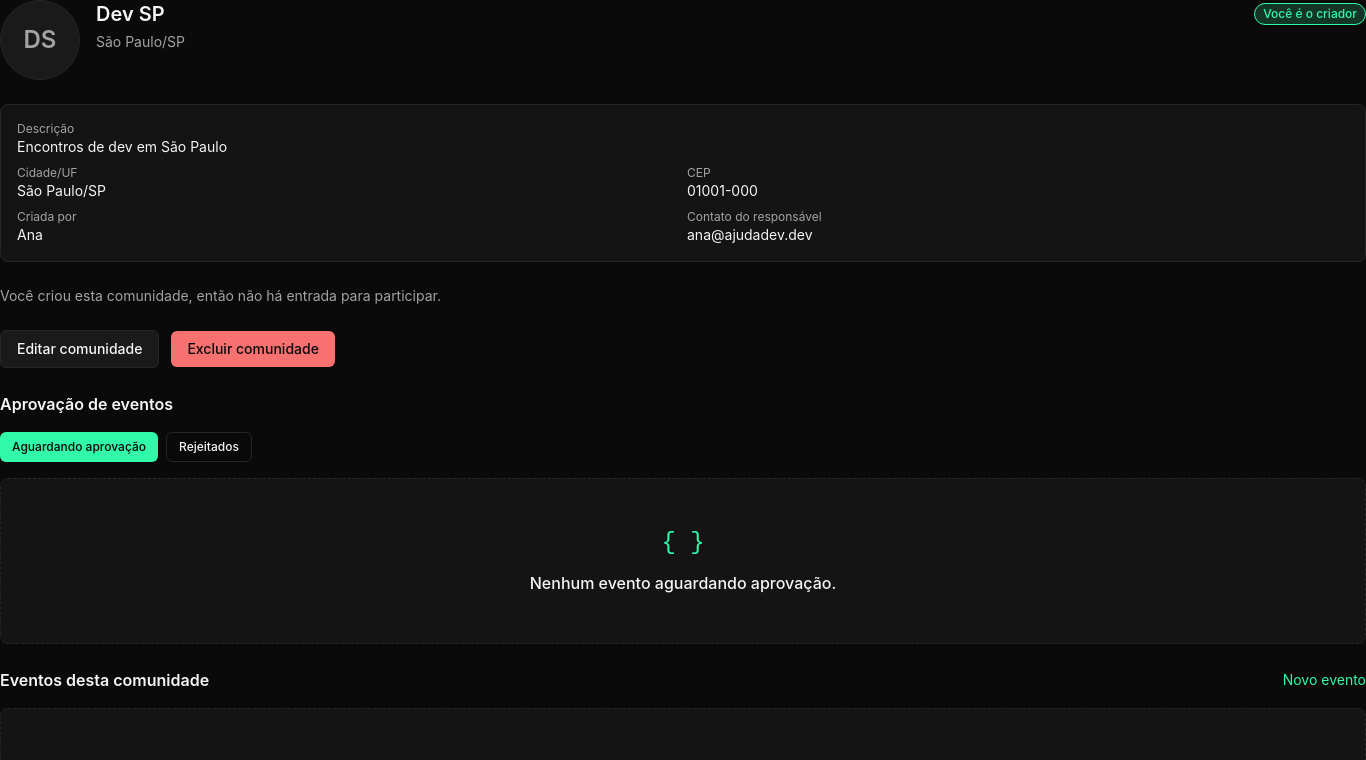
CommunityDetailPage › 403 alerta que só o responsável pode excluir a comunidade
Click the button "Excluir comunidade".
click(253, 349)  # box [171,331,335,367]
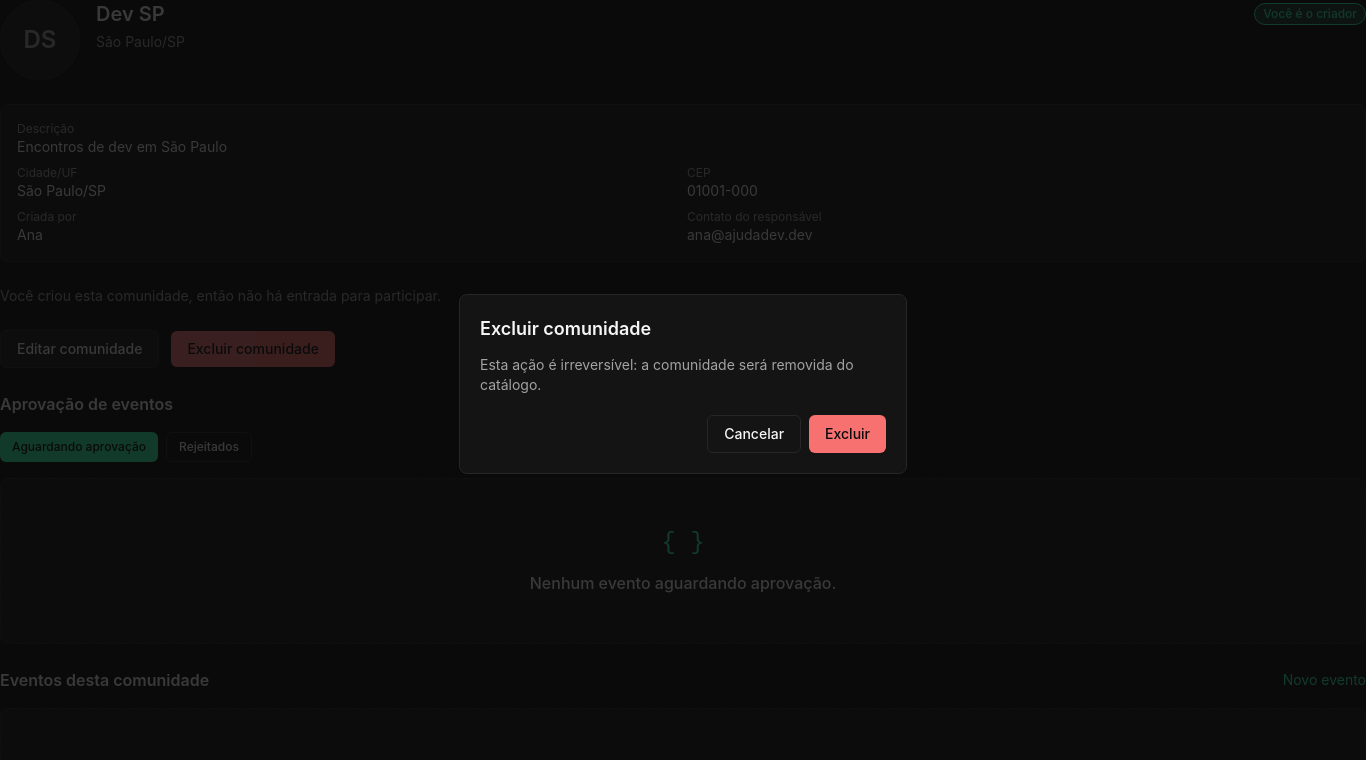
Click the button "Excluir".
click(848, 434)  # box [809,415,886,453]
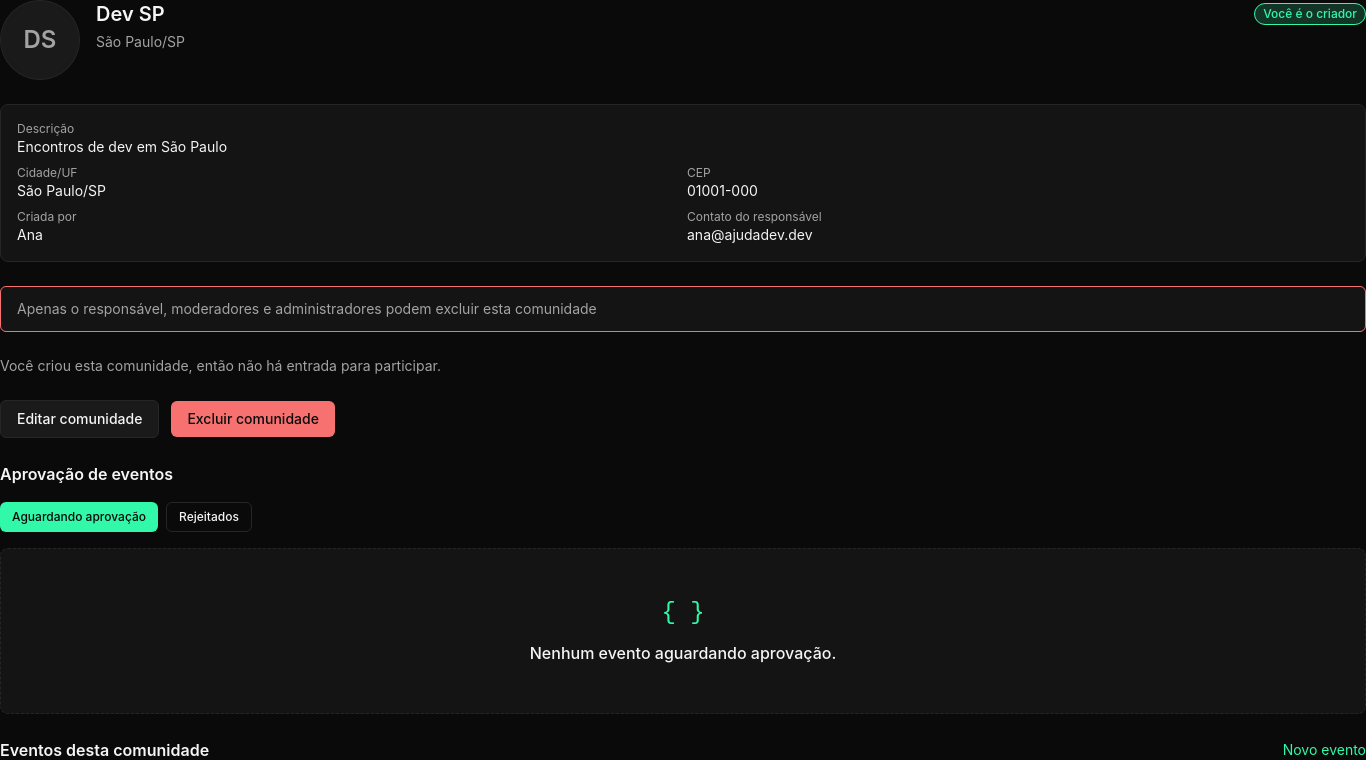
Expected: the text "Apenas o responsável, moderadores e administradores podem excluir esta comunidade" is shown, [17,300,597,317]
